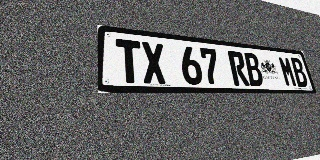6: (179, 45, 204, 85)
7: (198, 48, 222, 85)
B: (243, 52, 265, 86), (289, 57, 309, 87)
M: (277, 56, 298, 87)
R: (227, 51, 250, 86)
T: (116, 39, 143, 84)
X: (141, 41, 167, 84)
